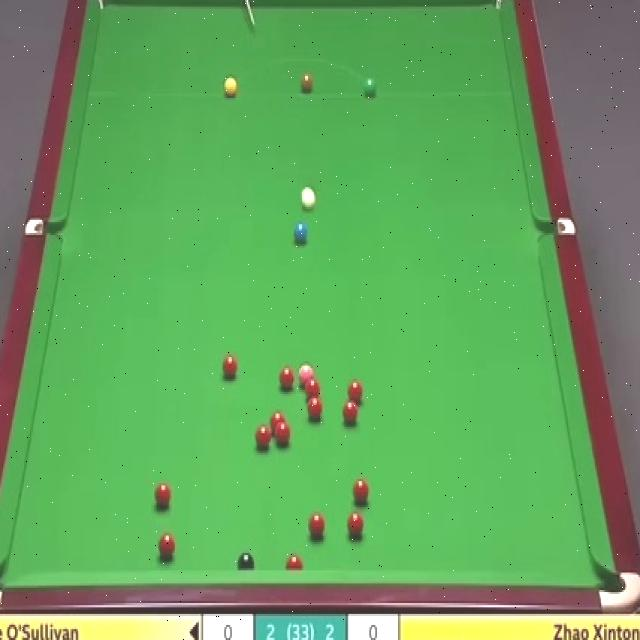black-ball: (237, 553, 256, 570)
blue-ball: (293, 223, 308, 242)
brown-ball: (301, 74, 313, 93)
green-ball: (362, 74, 378, 98)
pink-ball: (298, 363, 314, 386)
red-ball: (351, 479, 370, 506), (158, 534, 176, 560), (307, 397, 325, 422), (276, 368, 296, 390), (153, 483, 173, 505), (222, 351, 238, 377), (348, 512, 364, 538), (310, 507, 327, 531), (342, 400, 359, 424), (255, 424, 271, 449), (348, 379, 363, 402), (270, 412, 285, 433), (276, 422, 291, 443), (305, 377, 320, 397), (284, 555, 304, 569)
white-ball: (300, 186, 316, 212)
yellow-ball: (224, 76, 237, 98)
